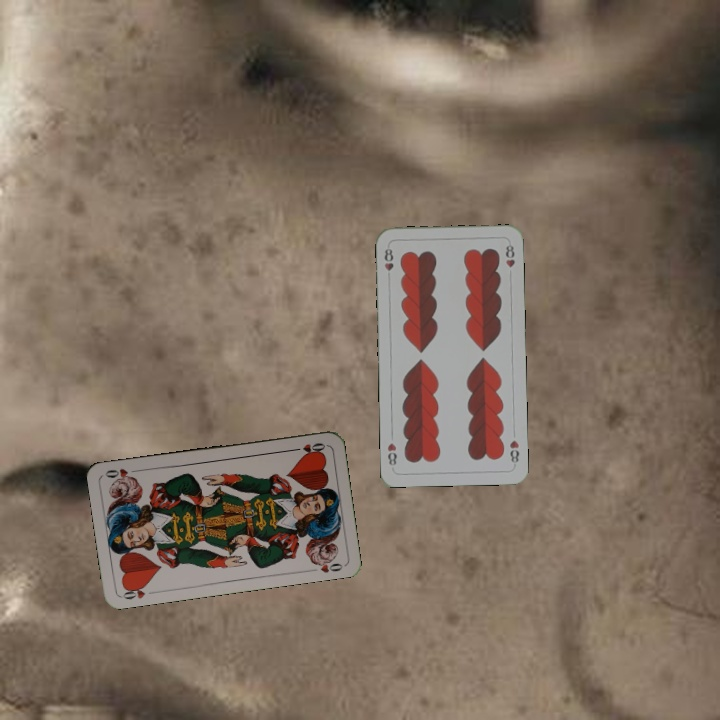H8: (506, 436, 522, 468), (380, 242, 396, 273)
HO: (118, 581, 158, 602), (288, 439, 328, 457)
